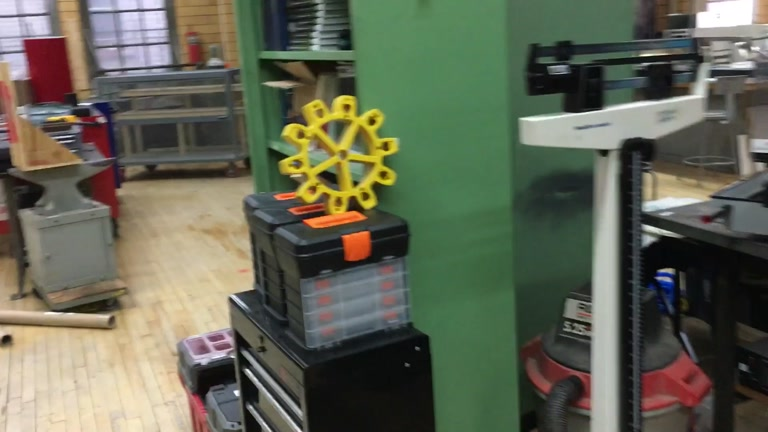gear: (278, 96, 400, 215)
